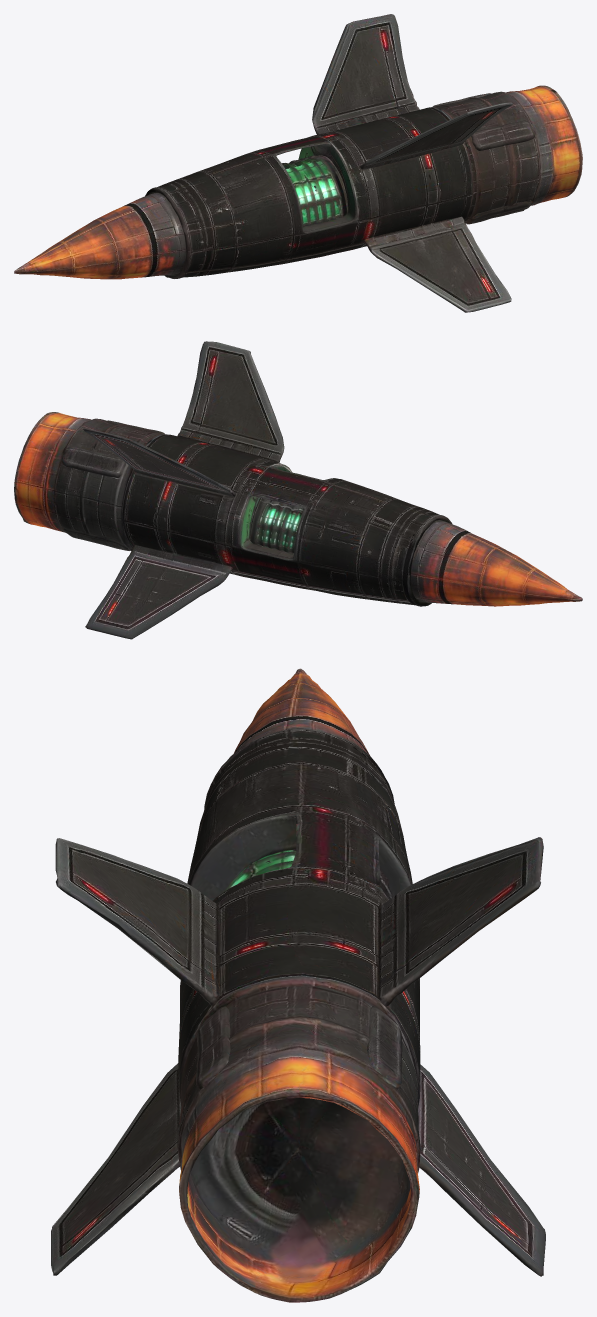
The model's file is orbital-incendiary-missile.glb.
3 views of the same model, one above another, from view 1: azimuth 30°, elevation 25°; view 2: azimuth 150°, elevation 25°; view 3: azimuth 270°, elevation 25° (orthographic). The views are drawn at different scales.
Visible parts, largest first — view 1: Mesh_0; view 2: Mesh_0; view 3: Mesh_0.
Part boxes in pixels (x1,y1,x2,y2): Mesh_0: (14,14,582,312); Mesh_0: (14,341,582,639); Mesh_0: (51,668,545,1302).
Bounding box in the file's own units: 11.25 × 4 × 4.48.
Materials: 1 (1 with a texture image).
